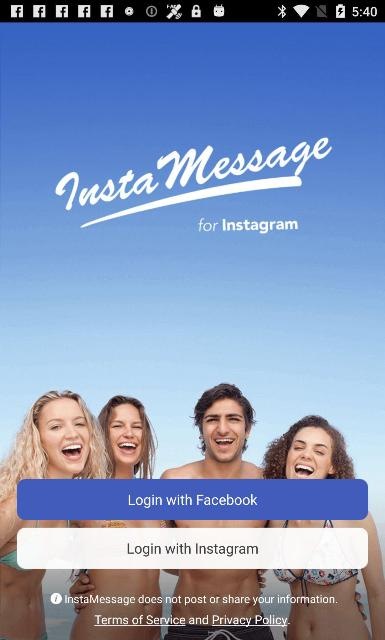BackgroundImage: (0, 22, 384, 640)
Icon: (50, 592, 62, 604)
Image: (54, 138, 332, 235)
Text: (65, 594, 337, 606), (94, 614, 290, 626), (128, 494, 258, 508), (128, 543, 258, 557)
TextButton: (17, 478, 368, 520), (16, 528, 368, 568)
UpperTaskBar: (0, 0, 384, 22)
